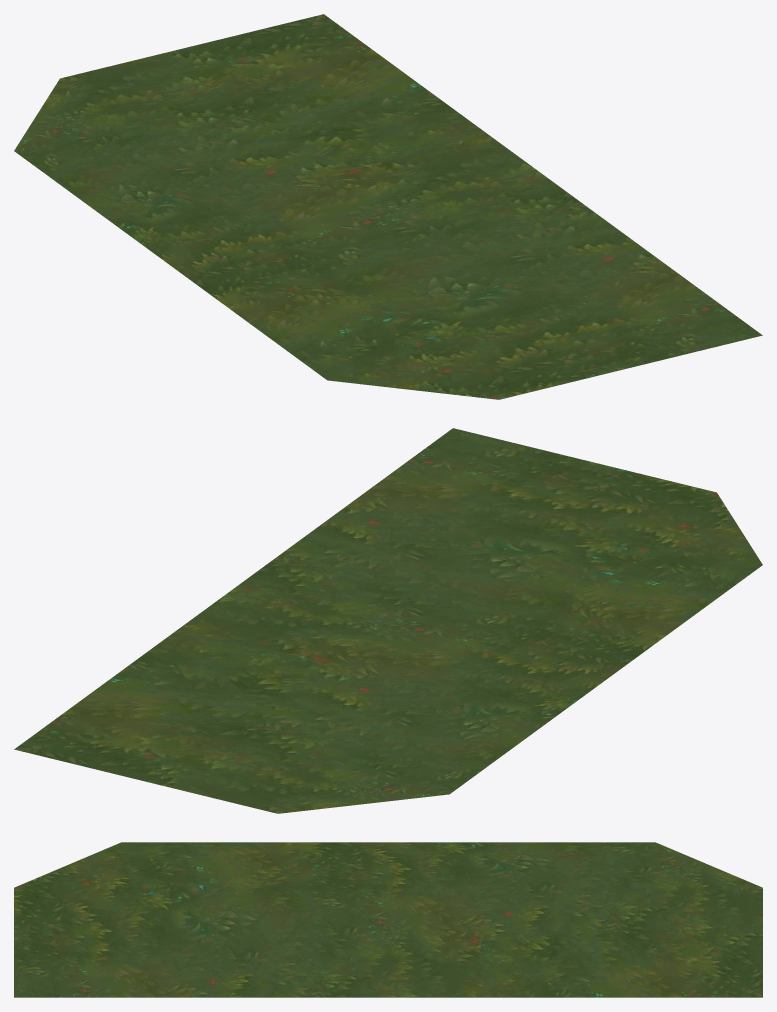
File: cs_zhucheng_caoping_003.FBX
The picture shows the model from 3 angles, top to bottom: view 1: azimuth 30°, elevation 25°; view 2: azimuth 150°, elevation 25°; view 3: azimuth 270°, elevation 25°; orthographic projection. The views are drawn at different scales.
Visible parts, largest first — view 1: cs_zhucheng_caoping_003; view 2: cs_zhucheng_caoping_003; view 3: cs_zhucheng_caoping_003.
Boxes of the visible parts, bbox=[...] form: cs_zhucheng_caoping_003: bbox=[14, 14, 762, 399]; cs_zhucheng_caoping_003: bbox=[14, 428, 762, 813]; cs_zhucheng_caoping_003: bbox=[14, 842, 762, 997].
Bounding box in the file's own units: 240 × 489 × 6.1e-05.
